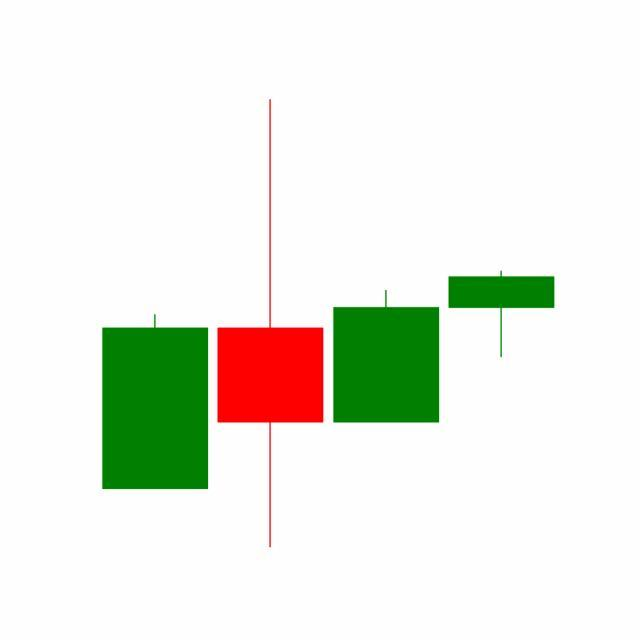Marubozu: (329, 289, 445, 425)
